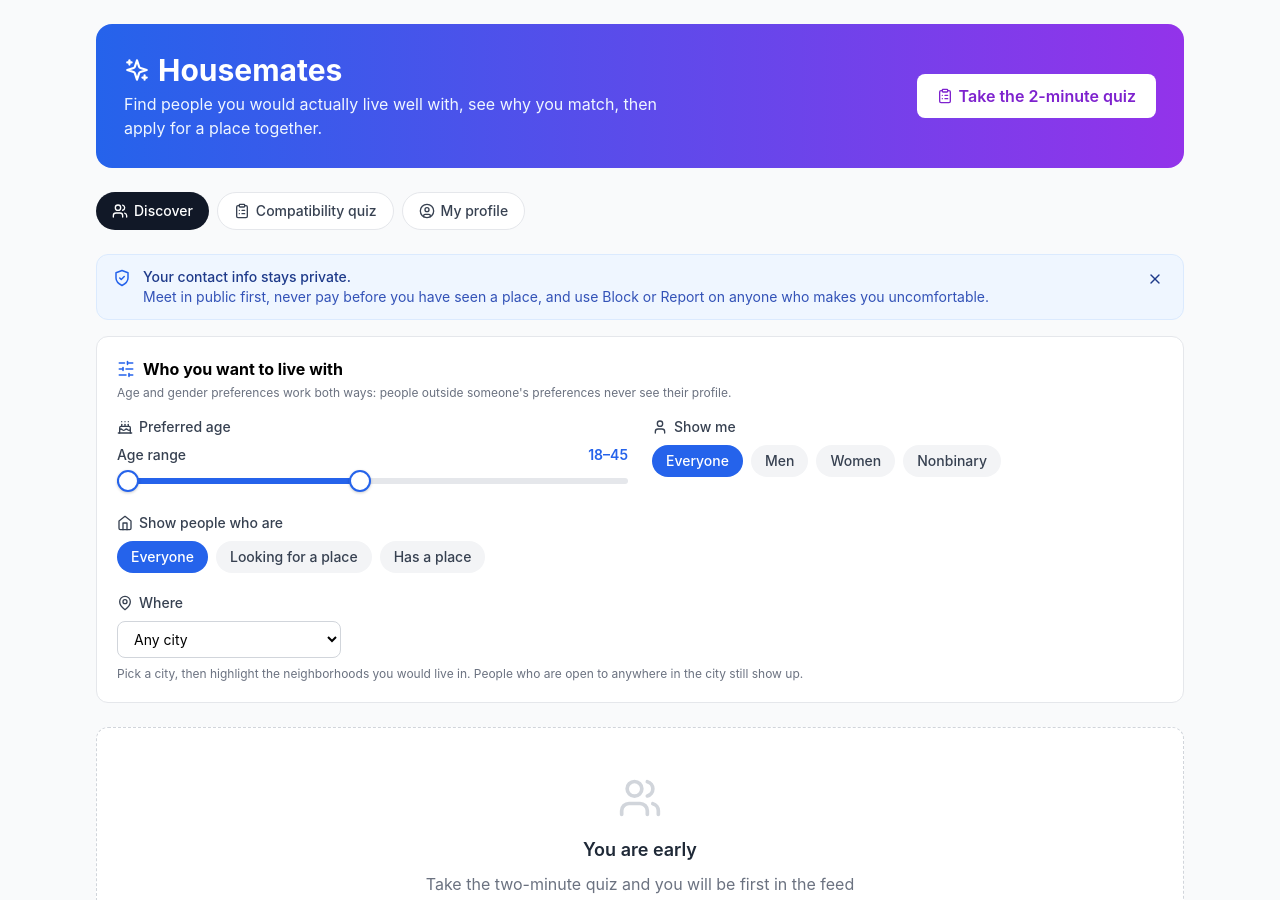
HousematesHub › edits the bio and previews your own profile from My profile
This screenshot has width=1280, height=900.
Expected: the heading "You are early" is shown, left=583, top=839, right=697, bottom=860
Step 1. Click the tab "My profile" → (463, 211), box left=402, top=192, right=525, bottom=230
(page scrolled)
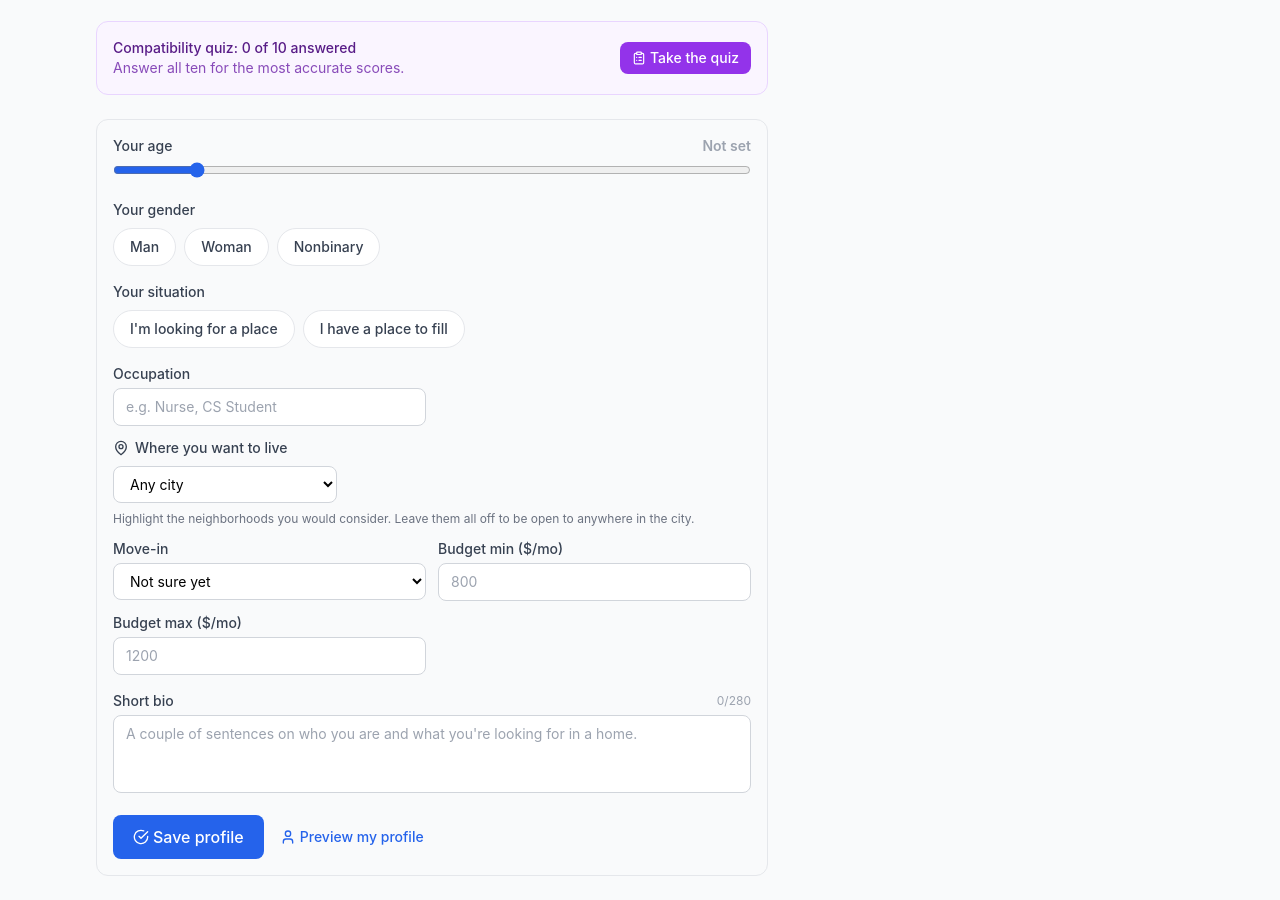
Step 2. Replace the text in the text box with placeholder "couple of sentences" with "Tidy night owl who loves to cook." → (432, 754), box left=113, top=715, right=751, bottom=793
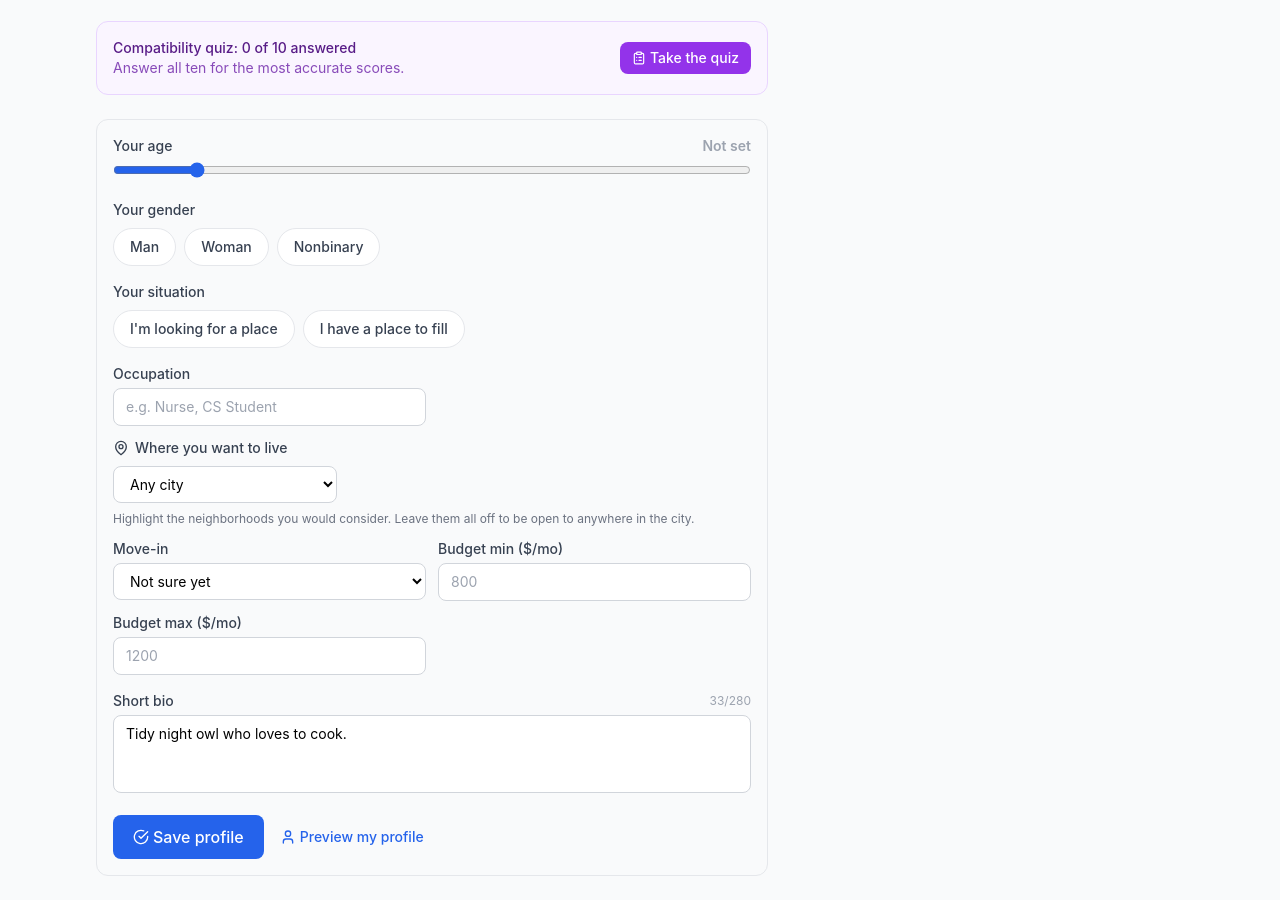
Step 3. Click the button "Preview my profile" → (352, 837), box left=280, top=827, right=424, bottom=847
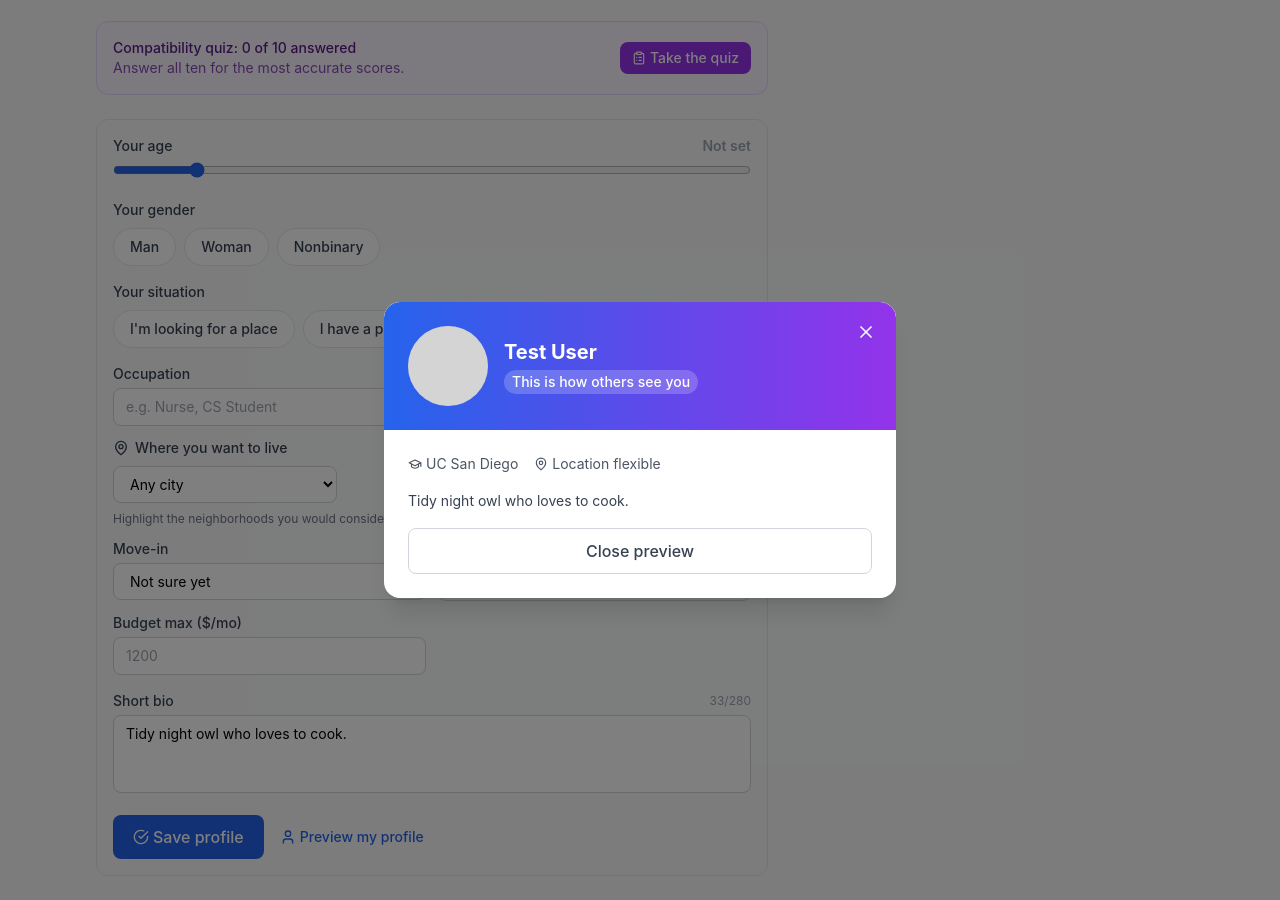
Expected: the dialog shows "This is how others see you", left=512, top=373, right=690, bottom=390
Expected: the dialog shows "Tidy night owl who loves to cook.", left=408, top=492, right=629, bottom=509
Expected: the dialog shows "UC San Diego", left=426, top=455, right=518, bottom=472
